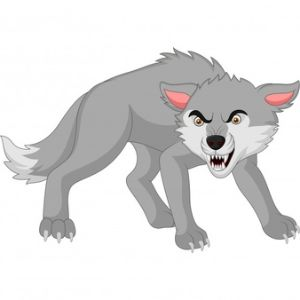wolf: (5, 46, 299, 256)
